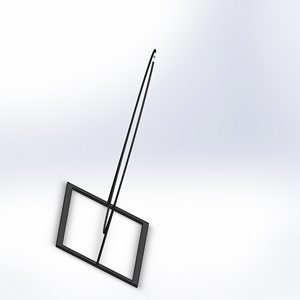circle: (53, 46, 158, 289)
